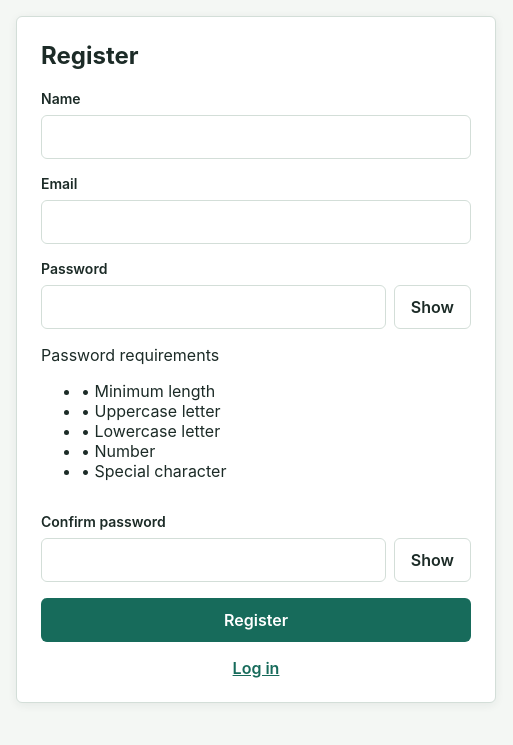
Test: RegistrationPage › rejects an invalid email without registering
Type "Renter Name" into the field labelled "Name" at (256, 137), box [41,115,471,159]
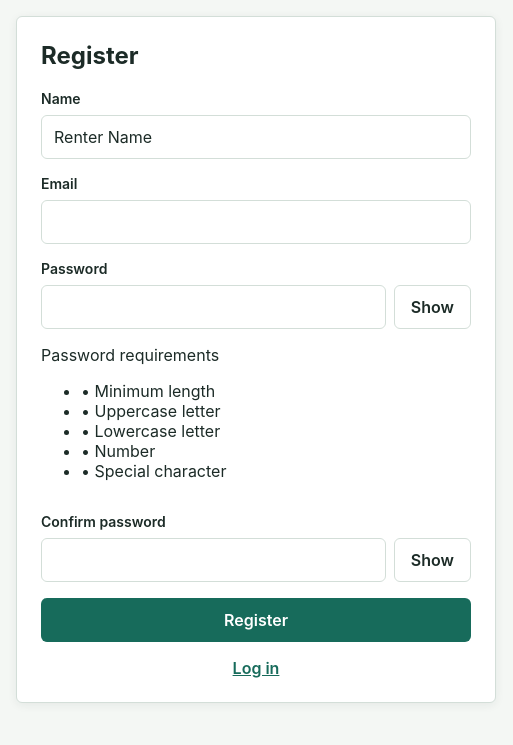
Type "not-an-email" into the field labelled "Email" at (256, 222), box [41,200,471,244]
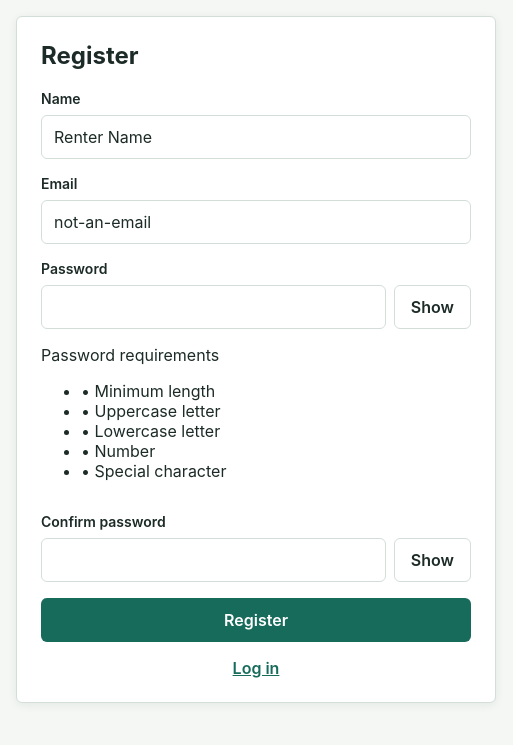
Type "Correct-horse-battery1!" into the password field labelled "Password" at (213, 307), box [41,285,386,329]
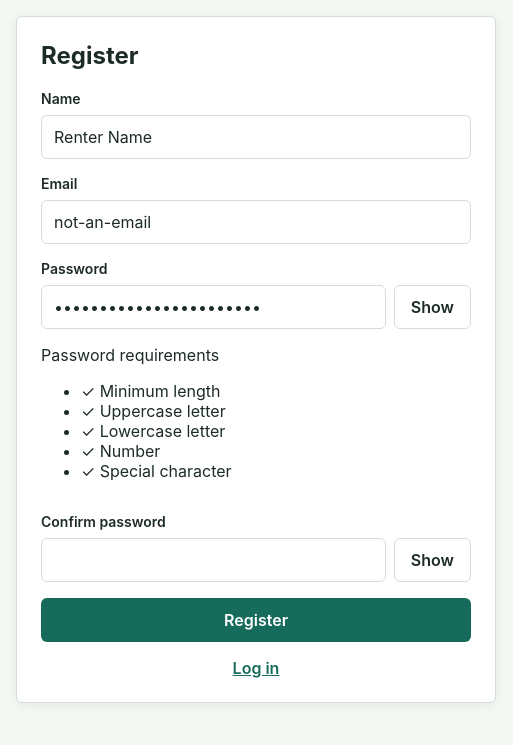
Type "Correct-horse-battery1!" into the password field labelled "Confirm password" at (213, 560), box [41,538,386,582]
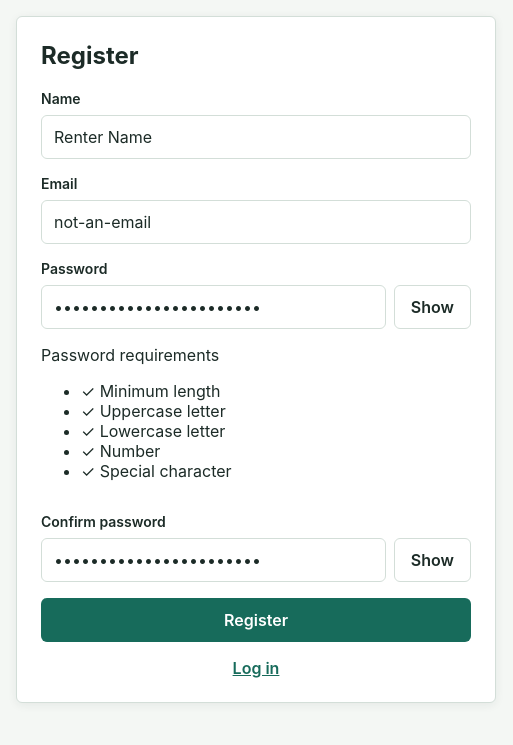
Click the button "Register" at (256, 620), box [41,598,471,642]
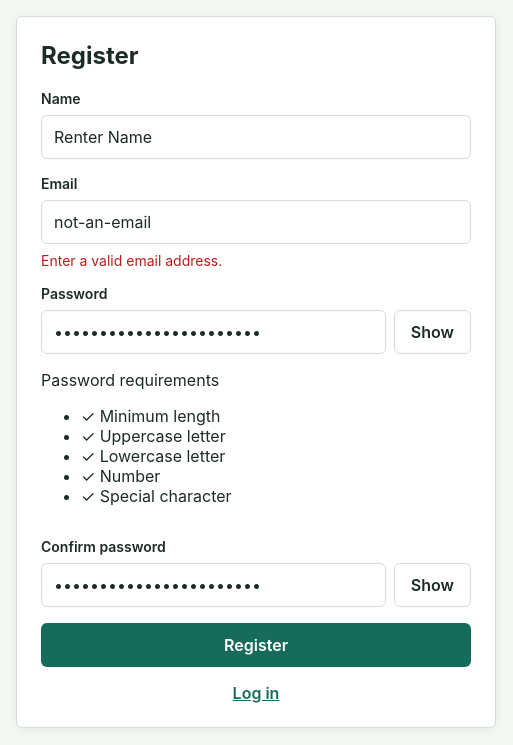
Expected: the text "Enter a valid email address." is shown, [41,252,222,269]
